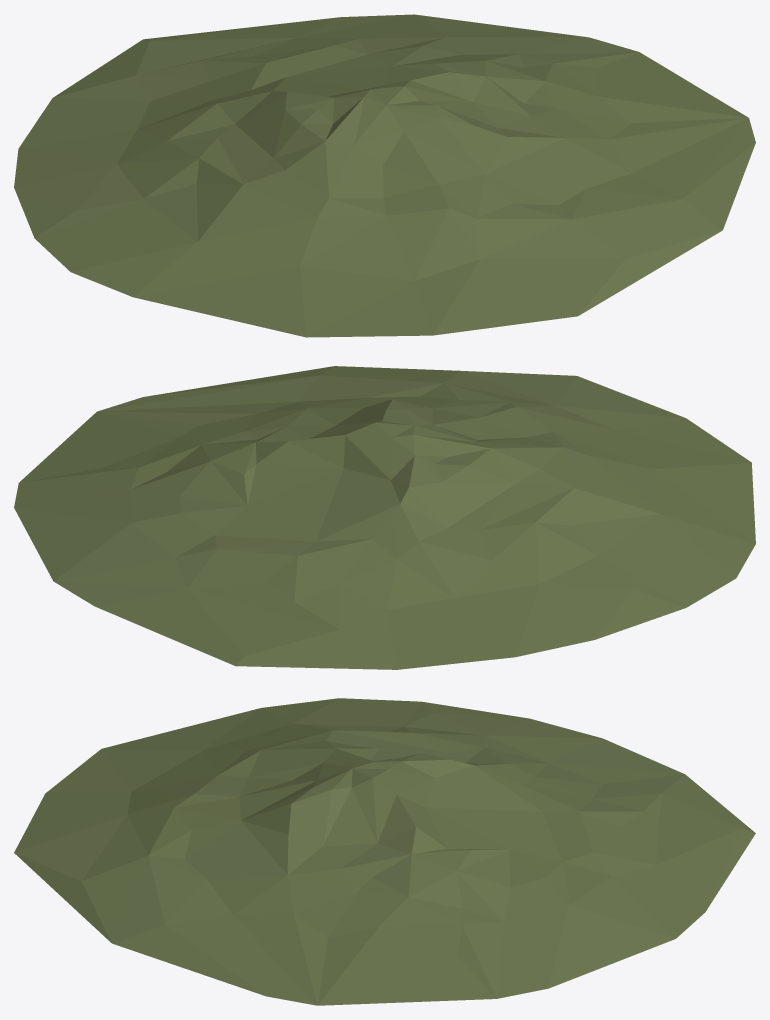
File: SM_Envr_Nature_Terrain_Ground_05.fbx
The picture shows the model from 3 angles, top to bottom: view 1: azimuth 30°, elevation 25°; view 2: azimuth 150°, elevation 25°; view 3: azimuth 270°, elevation 25°; orthographic projection. The views are drawn at different scales.
Parts seen in each view (by area): view 1: SM_Envr_Nature_Terrain_Ground_05; view 2: SM_Envr_Nature_Terrain_Ground_05; view 3: SM_Envr_Nature_Terrain_Ground_05.
Part boxes in pixels (<box>): SM_Envr_Nature_Terrain_Ground_05: <box>14,14,755,337</box>; SM_Envr_Nature_Terrain_Ground_05: <box>14,366,755,669</box>; SM_Envr_Nature_Terrain_Ground_05: <box>14,698,755,1005</box>.
Bounding box in the file's own units: 717 × 89.36 × 731.
